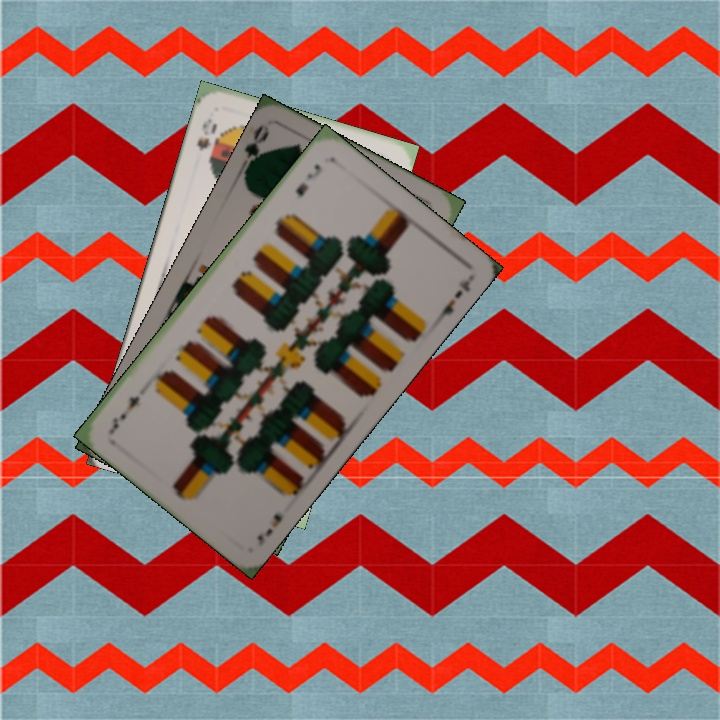E7: (291, 160, 325, 200), (253, 509, 285, 549)
GO: (240, 121, 272, 180)
SO: (193, 114, 220, 154)
